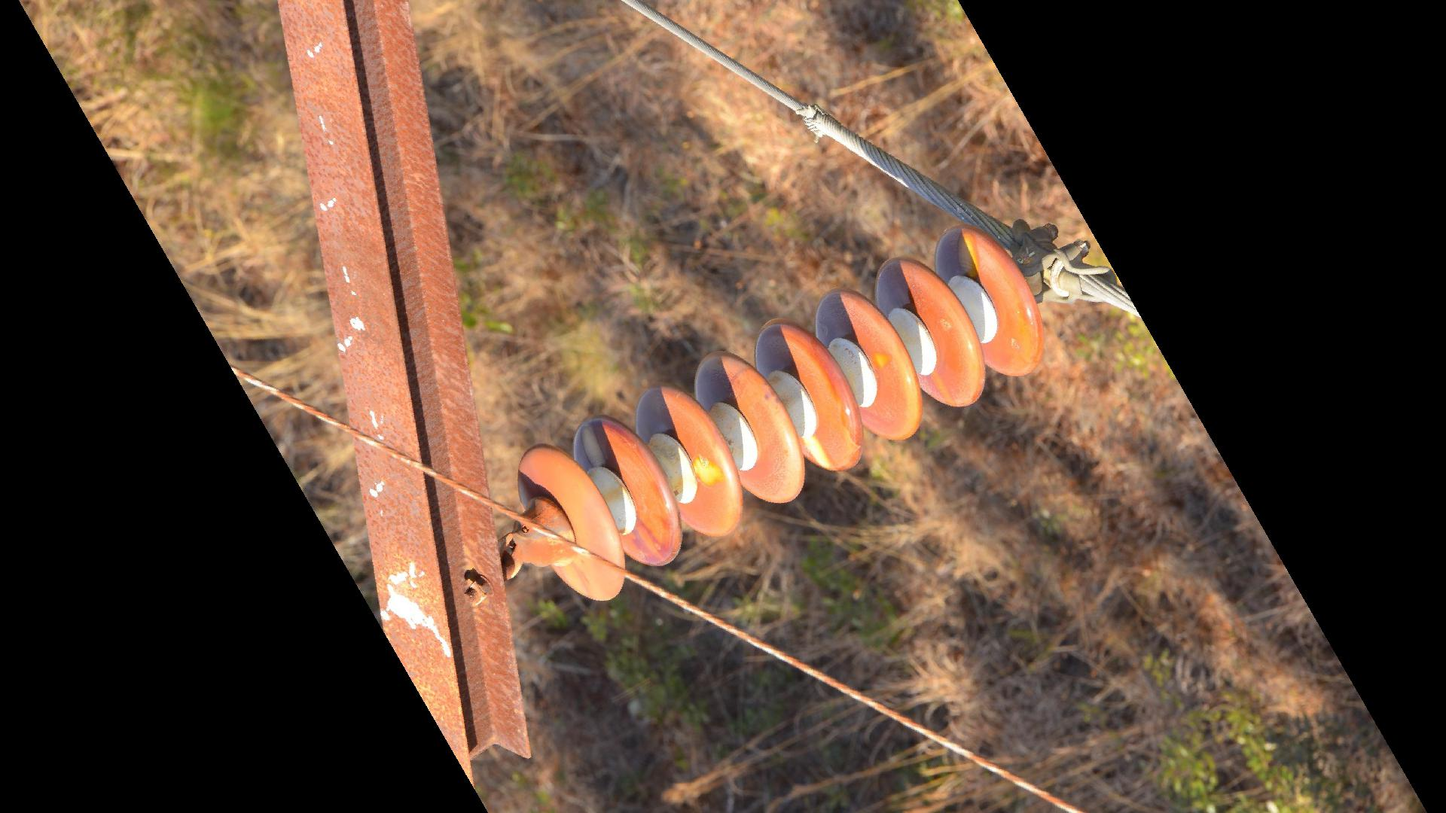insulator: (508, 219, 1051, 608)
insulator_flashover: (690, 452, 732, 491), (953, 227, 983, 280), (801, 432, 836, 472), (868, 347, 893, 373)
